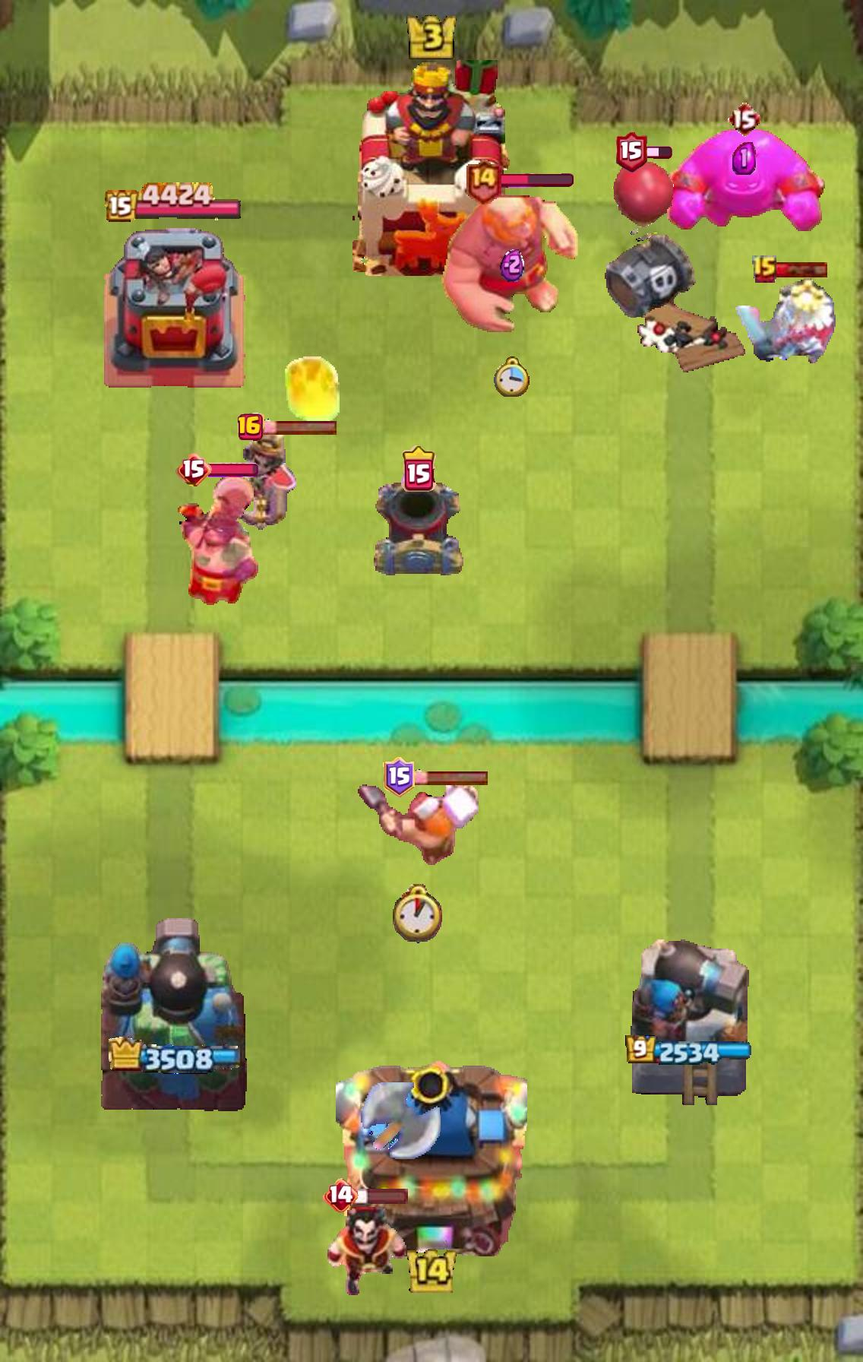bar: (260, 419, 339, 436), (411, 769, 490, 786), (499, 174, 574, 188), (354, 1186, 409, 1205), (775, 261, 828, 278), (208, 462, 258, 477), (643, 146, 672, 158)
bar-level: (464, 157, 502, 204), (401, 445, 437, 491), (615, 132, 647, 172), (383, 757, 415, 797), (322, 1178, 358, 1212), (727, 100, 760, 137), (175, 453, 212, 486), (751, 255, 779, 285), (237, 413, 264, 441)
